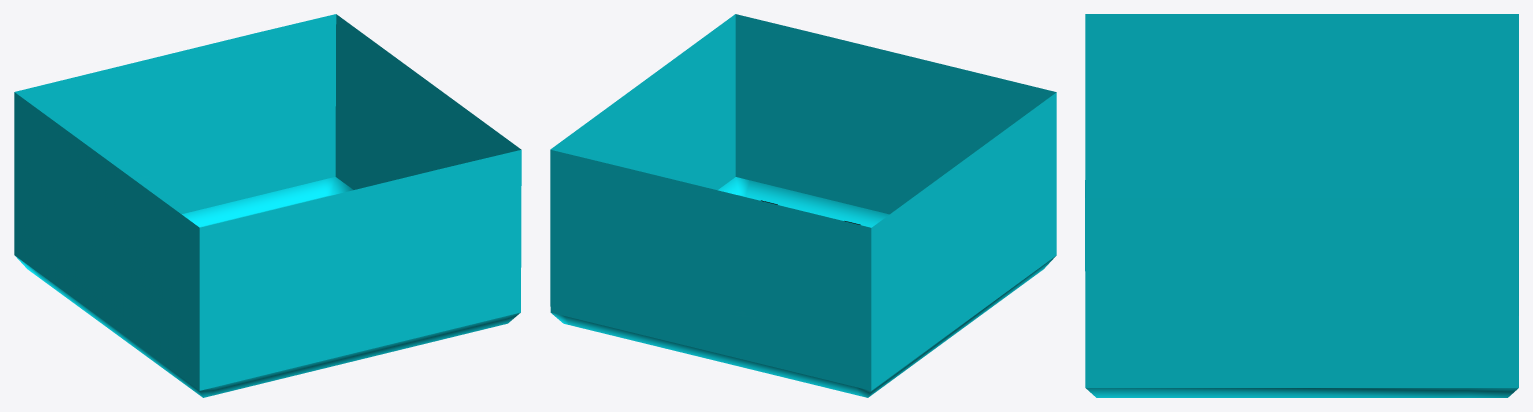
File: pool 1.obj
The picture shows the model from 3 angles, left to right: view 1: azimuth 30°, elevation 25°; view 2: azimuth 150°, elevation 25°; view 3: azimuth 270°, elevation 25°; orthographic projection. The views are drawn at different scales.
Visible parts, largest first — view 1: Cube; view 2: Cube; view 3: Cube.
Part boxes in pixels (x1,y1,x2,y2): Cube: [14, 14, 521, 397]; Cube: [550, 14, 1056, 397]; Cube: [1085, 14, 1518, 397].
Bounding box in the file's own units: 16.02 × 8.37 × 16.02.
